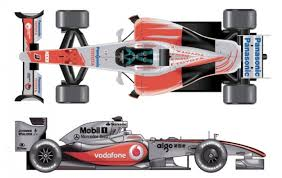FormulaOneCar: (9, 5, 267, 114), (6, 112, 274, 177)
